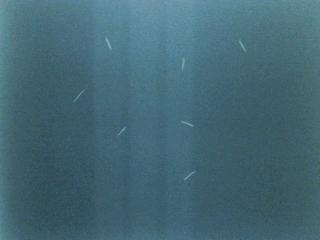scratch: (178, 162, 201, 189), (98, 31, 120, 55), (69, 83, 90, 106), (234, 34, 253, 57), (176, 52, 191, 76), (111, 122, 132, 139), (179, 116, 197, 132)
